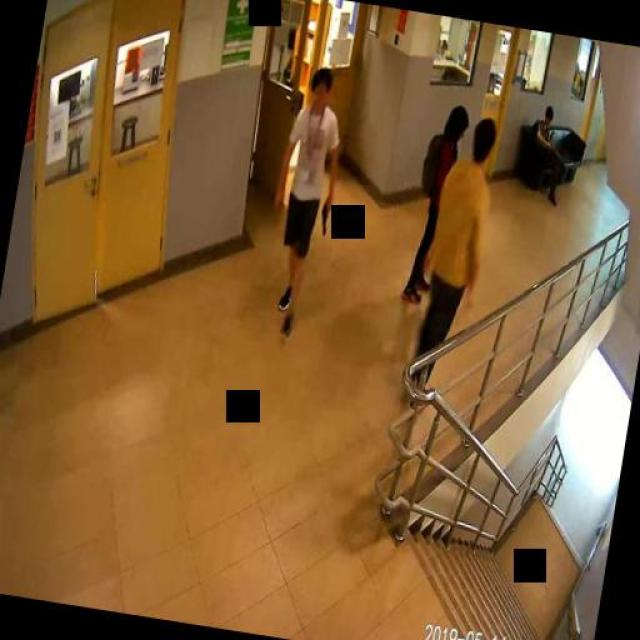gun: (316, 198, 330, 234)
